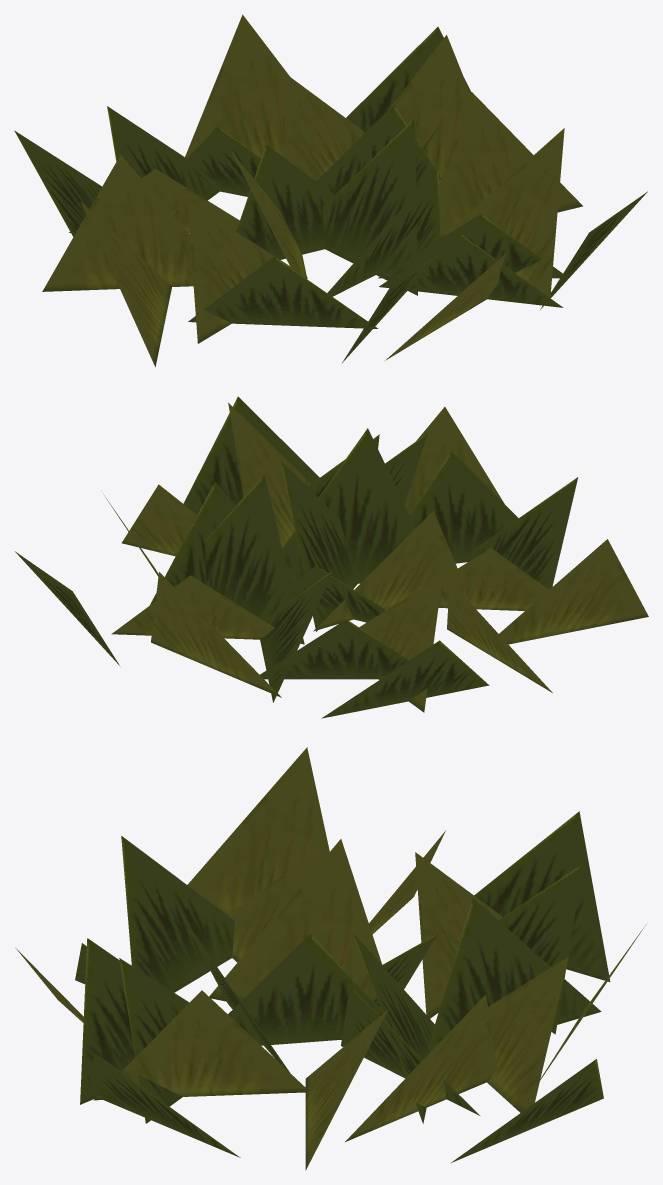
Rendered from dec_Ground_Grass_01_78863.glb.
3 renders of one model, top to bottom at view 1: azimuth 30°, elevation 25°; view 2: azimuth 150°, elevation 25°; view 3: azimuth 270°, elevation 25°, orthographic. The views are drawn at different scales.
Parts seen in each view (by area): view 1: Ground_Grass_01_mesh; view 2: Ground_Grass_01_mesh; view 3: Ground_Grass_01_mesh.
Part boxes in pixels (box(x1,y1,x2,y2)): Ground_Grass_01_mesh: box(14, 14, 647, 367); Ground_Grass_01_mesh: box(15, 396, 648, 718); Ground_Grass_01_mesh: box(15, 747, 646, 1170).
Size of the model in its own units: 1.13 by 0.2745 by 1.09.
Materials: 1 (1 with a texture image).
